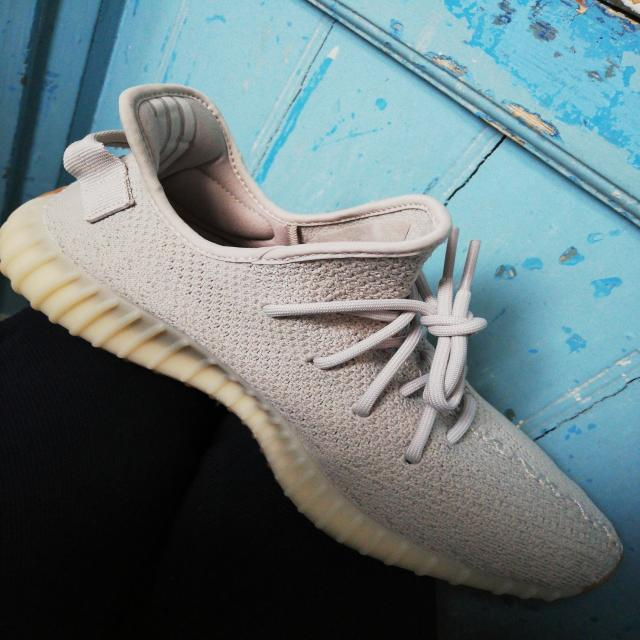shoe: (0, 77, 634, 616)
